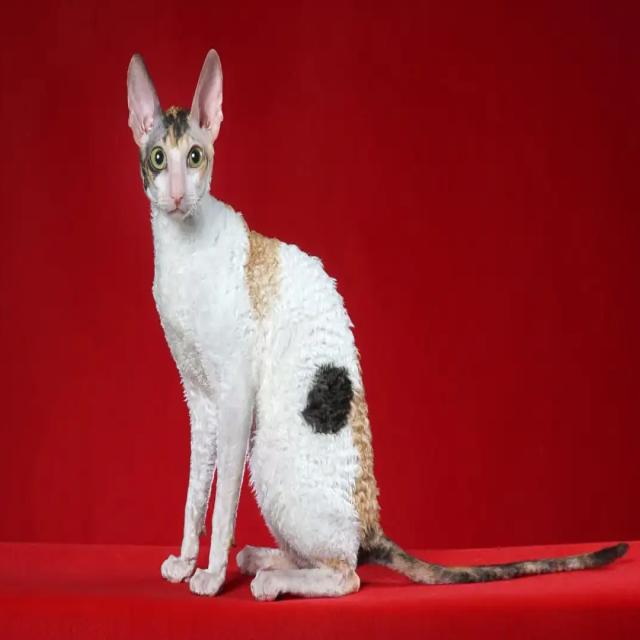Cornish Rex: (124, 44, 634, 606)
